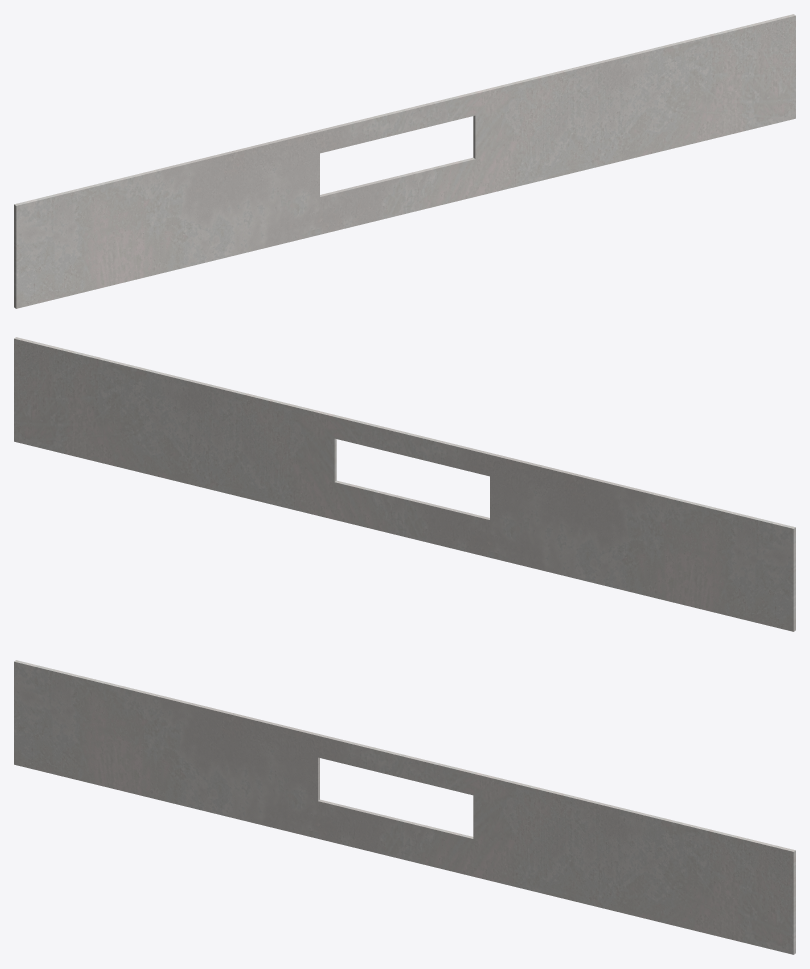
The model's file is BigWall.fbx.
3 renders of one model, top to bottom at view 1: azimuth 30°, elevation 25°; view 2: azimuth 150°, elevation 25°; view 3: azimuth 330°, elevation 25°, orthographic.
Visible parts, largest first — view 1: Wall.017; view 2: Wall.017; view 3: Wall.017.
Part boxes in pixels (x1,y1,x2,y2): Wall.017: [14, 14, 795, 308]; Wall.017: [14, 337, 795, 631]; Wall.017: [14, 660, 795, 954].
Bounding box in the file's own units: 2457 × 310 × 11.96.
